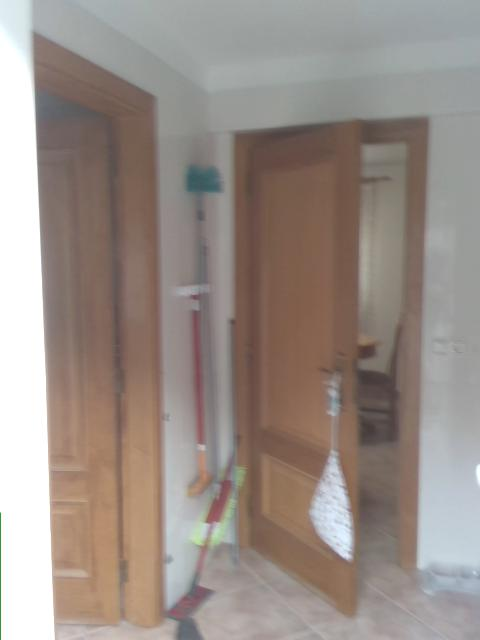semi_door: (230, 114, 435, 622)
